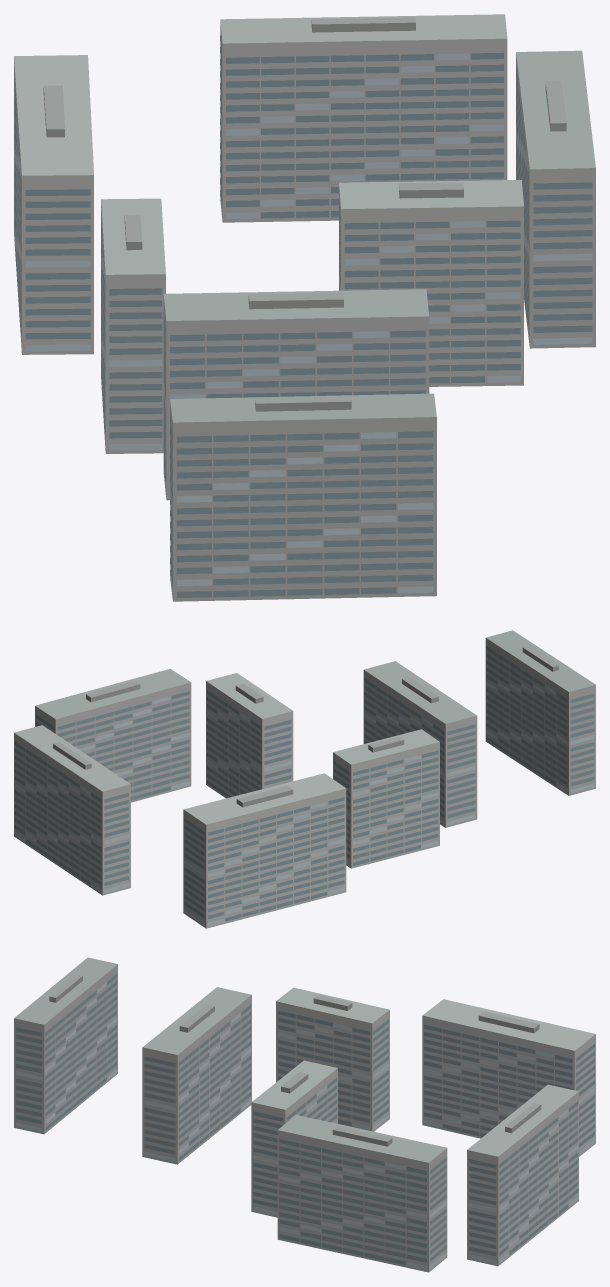
The model's file is apt-a15776916.glb.
The picture shows the model from 3 angles, top to bottom: view 1: azimuth 30°, elevation 25°; view 2: azimuth 150°, elevation 25°; view 3: azimuth 270°, elevation 25°; orthographic projection. The views are drawn at different scales.
Parts seen in each view (by area): view 1: apt-a15776916; view 2: apt-a15776916; view 3: apt-a15776916.
Part boxes in pixels (box(x1,y1,x2,y2)): apt-a15776916: box(14, 14, 595, 601); apt-a15776916: box(14, 630, 595, 928); apt-a15776916: box(14, 957, 595, 1272).
Bounding box in the file's own units: 184 × 47.81 × 220.
